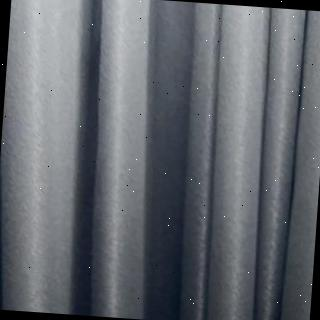fire: (305, 315, 309, 320)
